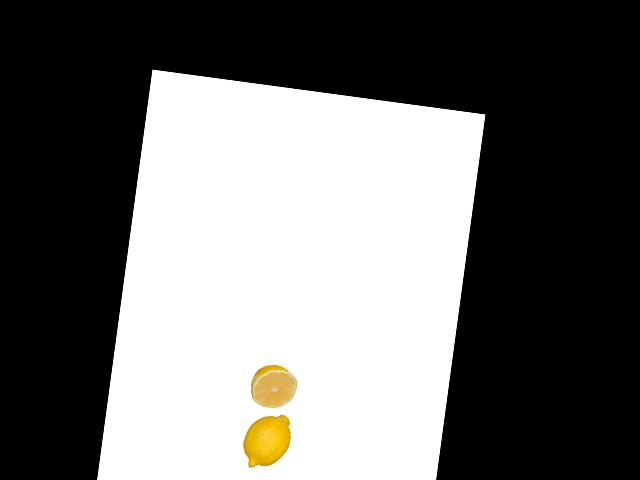lemon: (240, 409, 294, 470)
